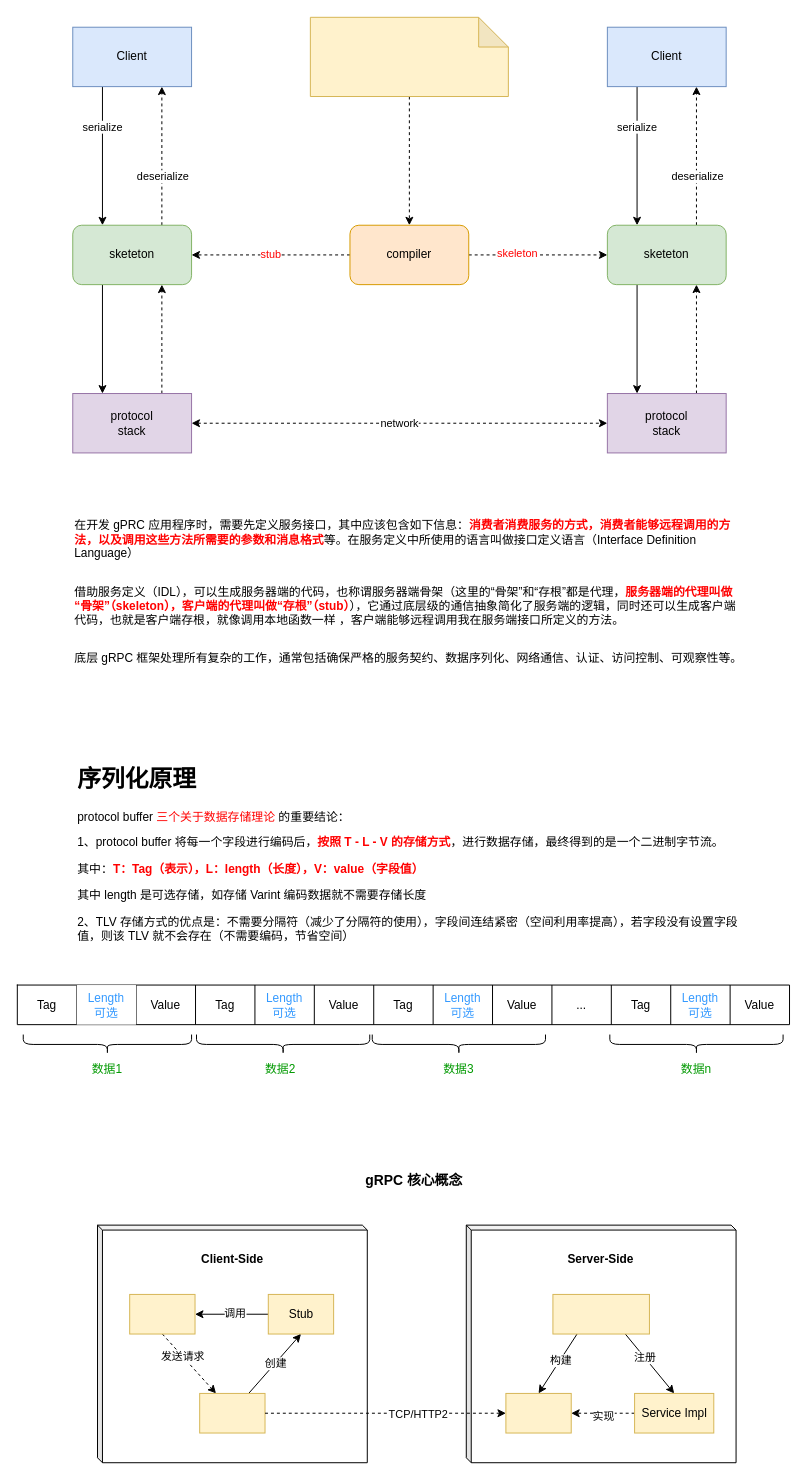
The diagram is 807 pixels wide and 1480 high, and some of its shapes have lost their labels. The shapes that lost their labels are listed below. From the top down, each one's box as (x1, y1, x2, y2) in pixels, then its label:
(309, 16, 508, 97): idl interface definition language
(129, 1293, 195, 1334): GRPC
(552, 1293, 649, 1334): ServerBuilder
(199, 1392, 265, 1433): Channel
(505, 1392, 571, 1433): Server
